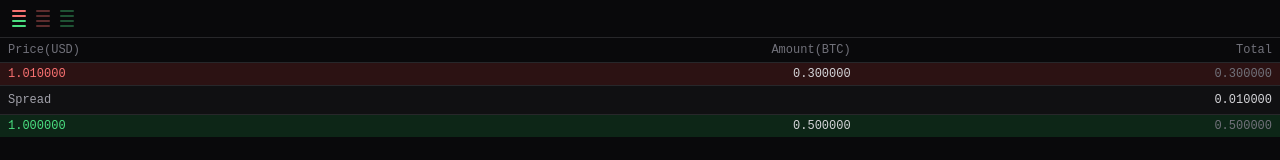
Test: OrderBook › switching to asks-only view hides bids section
The image size is (1280, 160).
Click the button named "Show asks".
click(43, 18)  # box [32,6,54,31]
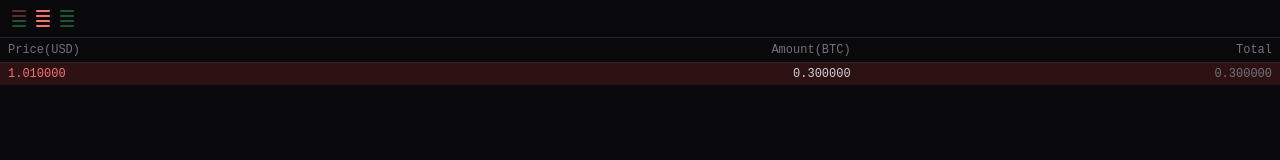
Expected: the text "1.010000" is shown, [8,67,66,81]
Expected: the text "1.000000" is gone
